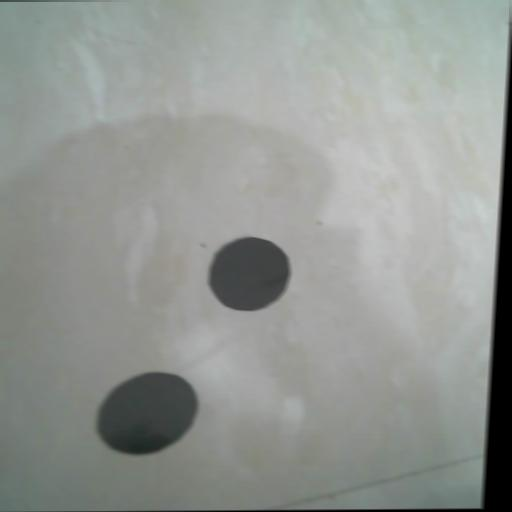pothole: (93, 370, 200, 453), (206, 234, 294, 310)
